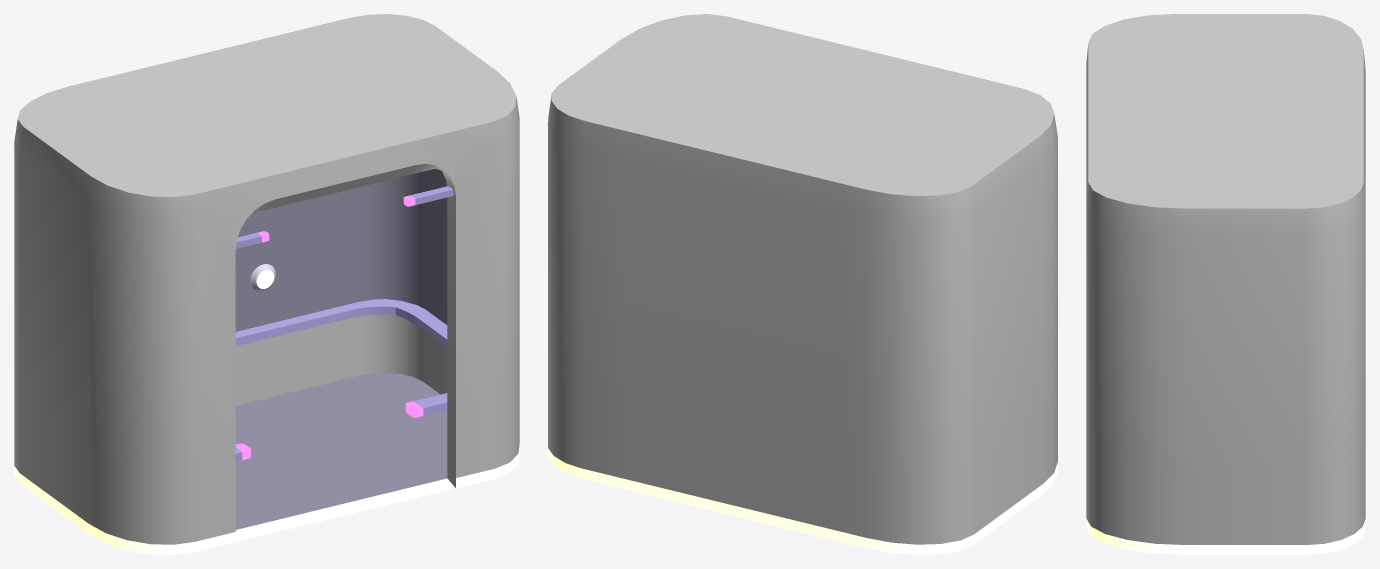
File: elevator.glb
The picture shows the model from 3 angles, left to right: view 1: azimuth 30°, elevation 25°; view 2: azimuth 150°, elevation 25°; view 3: azimuth 270°, elevation 25°; orthographic projection. The views are drawn at different scales.
Parts seen in each view (by area): view 1: LIFT; view 2: LIFT; view 3: LIFT.
Part boxes in pixels (x1=…): LIFT: x1=14, y1=14, x2=519, y2=554; LIFT: x1=548, y1=14, x2=1057, y2=554; LIFT: x1=1086, y1=14, x2=1365, y2=554.
Size of what is drawn, in the model's own units: 5.45 by 4.44 by 3.26.
8 materials, 1 textured.
